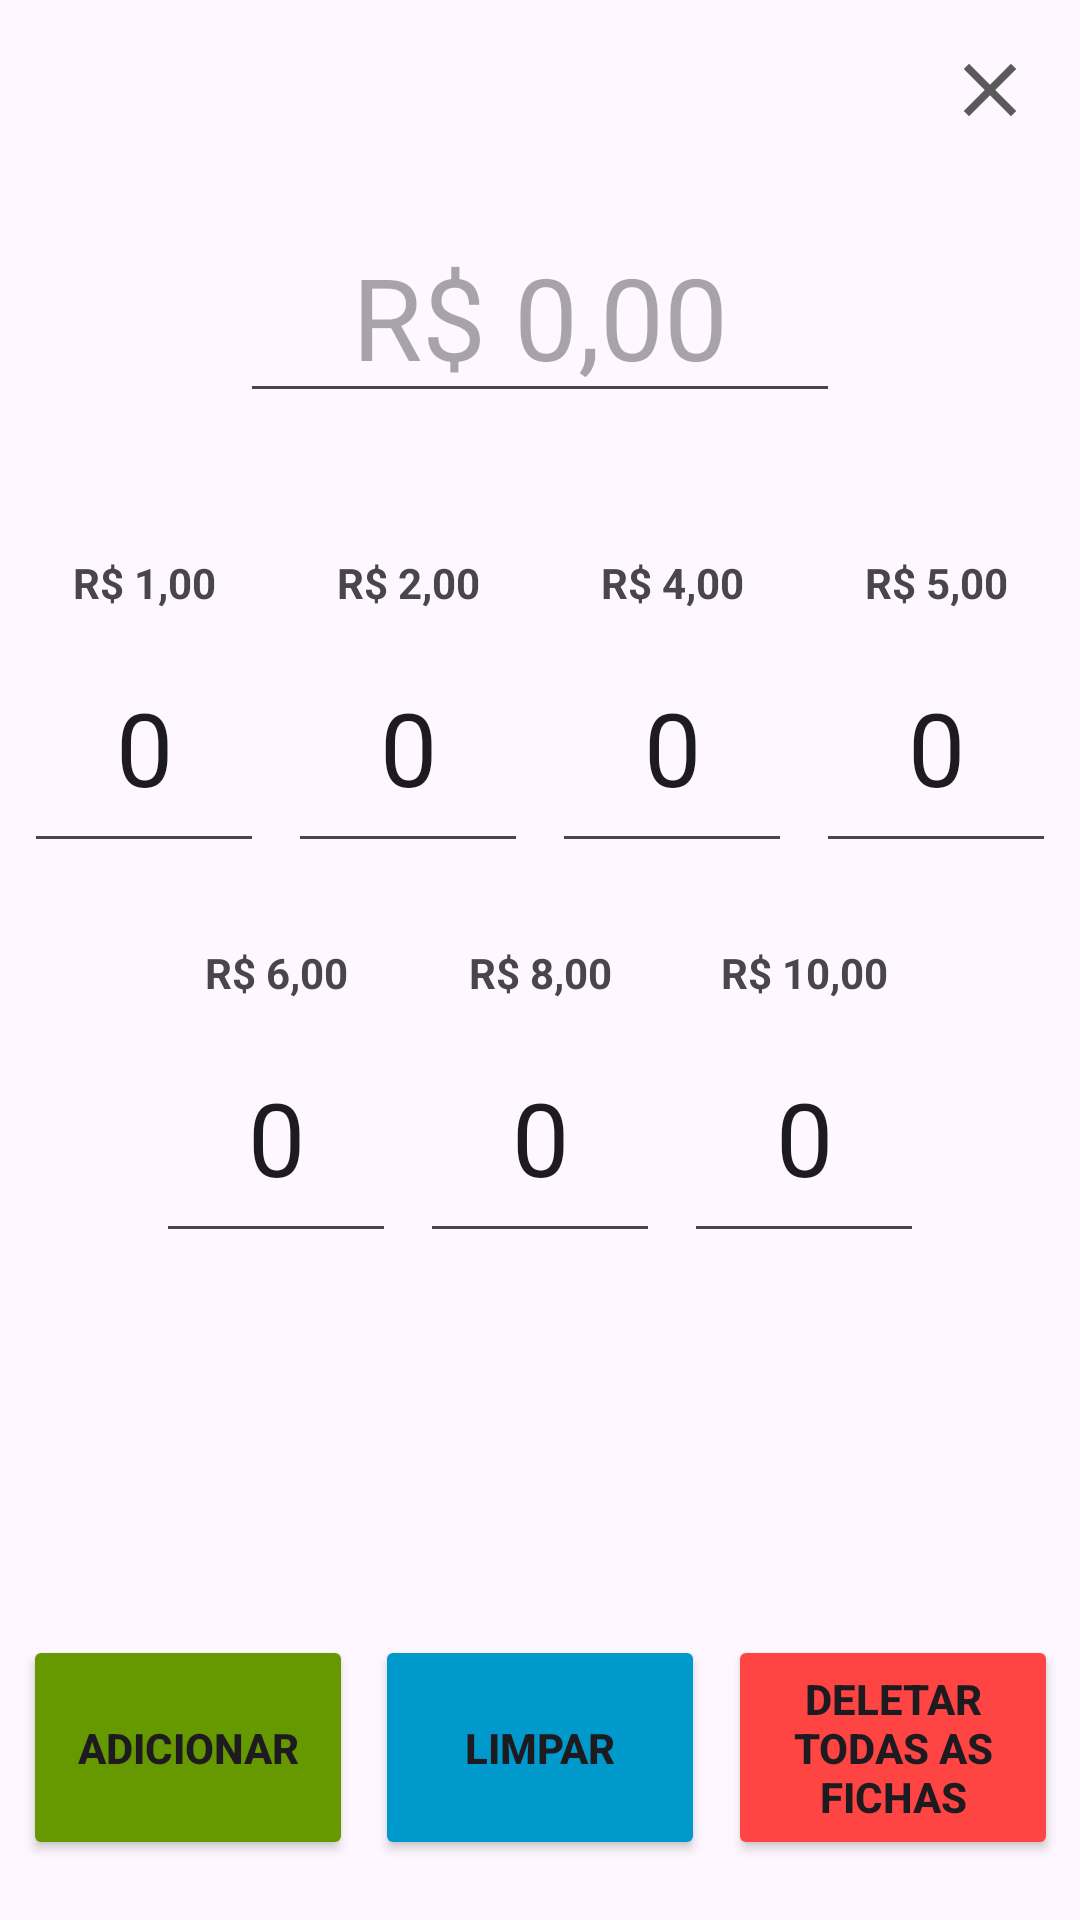

Icon click points for this 1080px×1920px phone screenshot, format (x=x, y=y):
close: (x=990, y=90)
